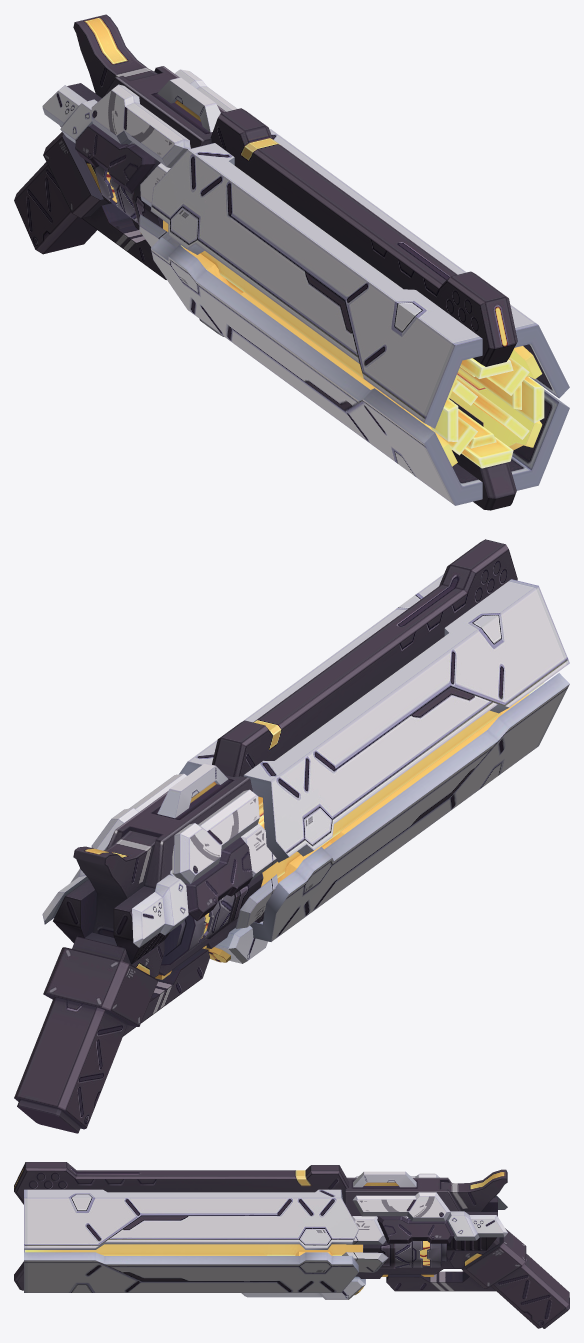
The model's file is grenade_gun_0.gltf.
3 renders of one model, top to bottom at view 1: azimuth 30°, elevation 25°; view 2: azimuth 150°, elevation 25°; view 3: azimuth 270°, elevation 25°, orthographic. The views are drawn at different scales.
Parts seen in each view (by area): view 1: grenade_gun_0_tps; view 2: grenade_gun_0_tps; view 3: grenade_gun_0_tps.
Boxes of the visible parts, x1=… form: grenade_gun_0_tps: x1=14, y1=14, x2=569, y2=510; grenade_gun_0_tps: x1=14, y1=539, x2=569, y2=1133; grenade_gun_0_tps: x1=14, y1=1162, x2=569, y2=1328.
Bounding box in the file's own units: 8.06 × 14.13 × 44.9.
2 materials, 2 textured.
